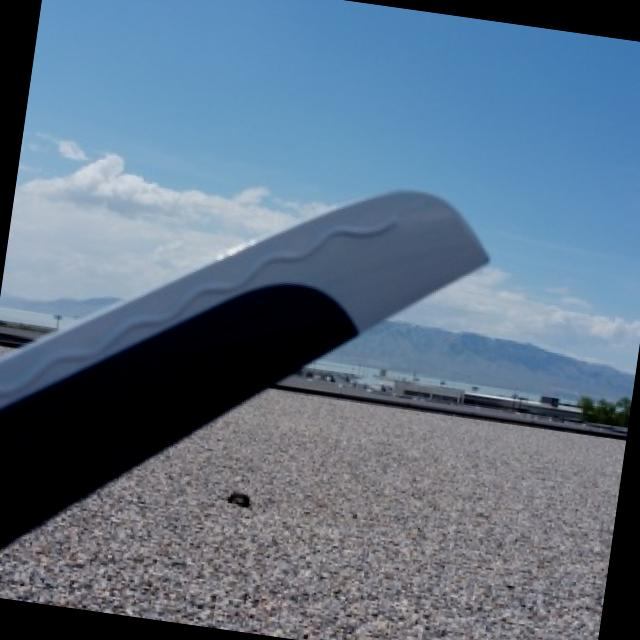healthy: (0, 191, 483, 542)
